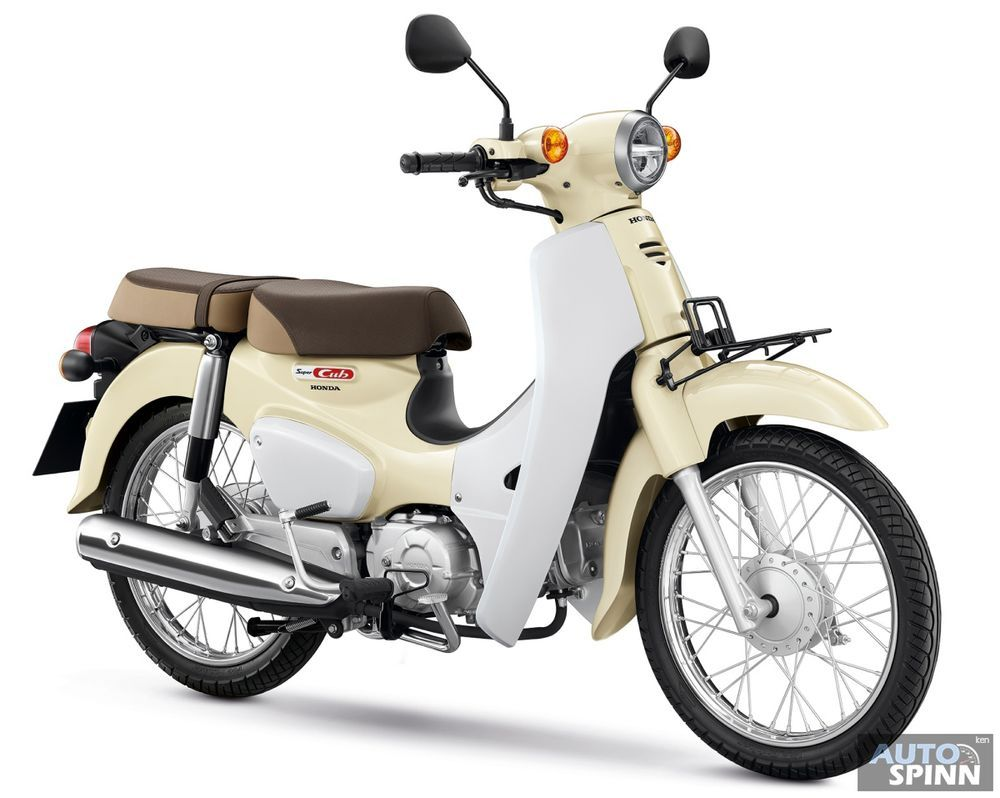motorcycle: (64, 110, 930, 772)
